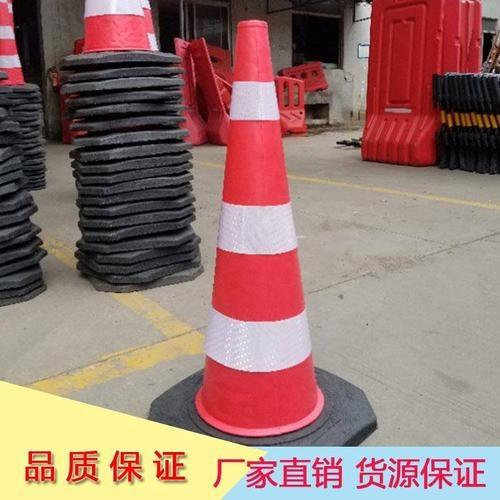cone_barrel: (181, 21, 334, 435), (60, 0, 159, 51)
